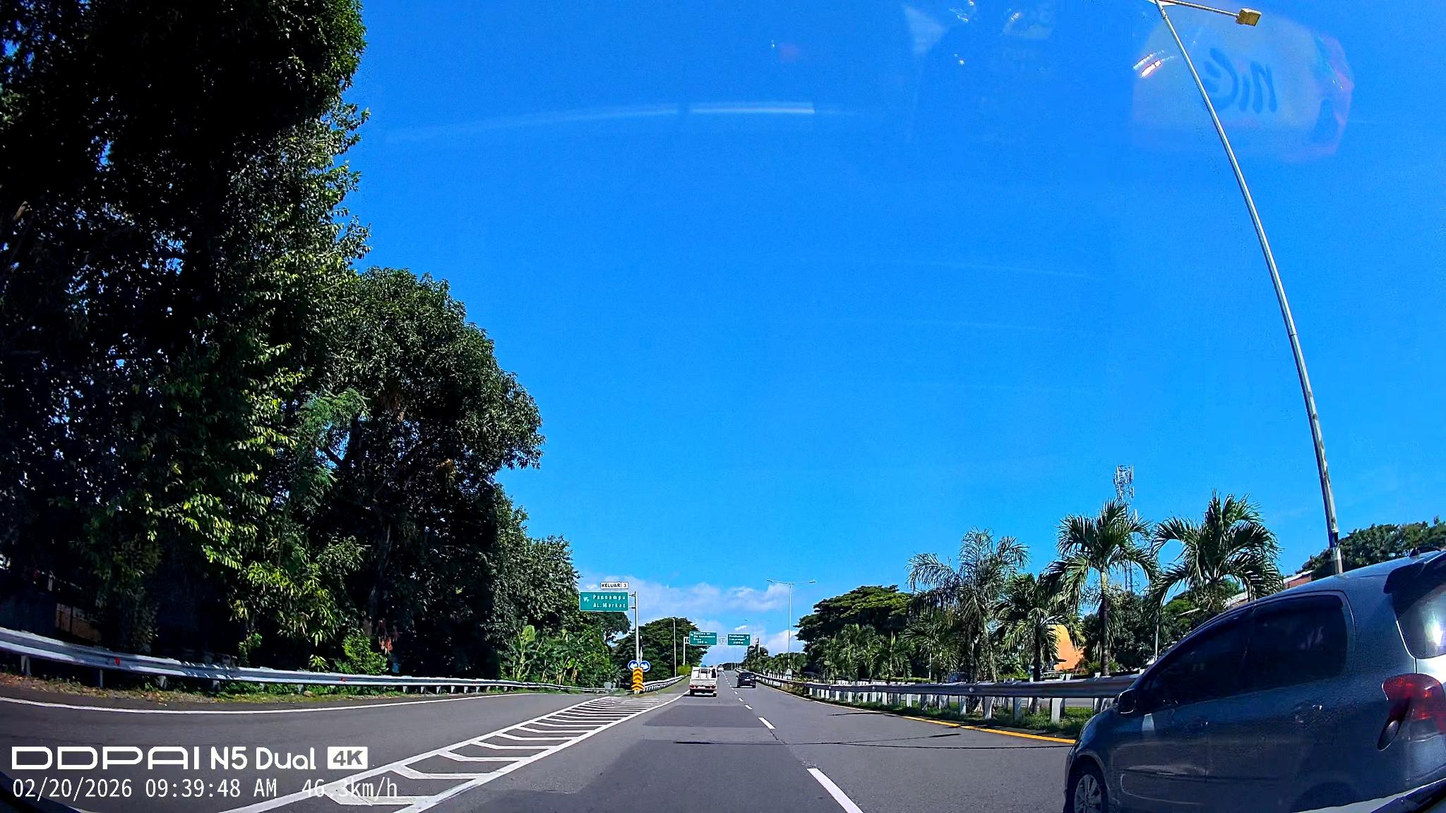rambu_teks: (579, 591, 629, 612)
